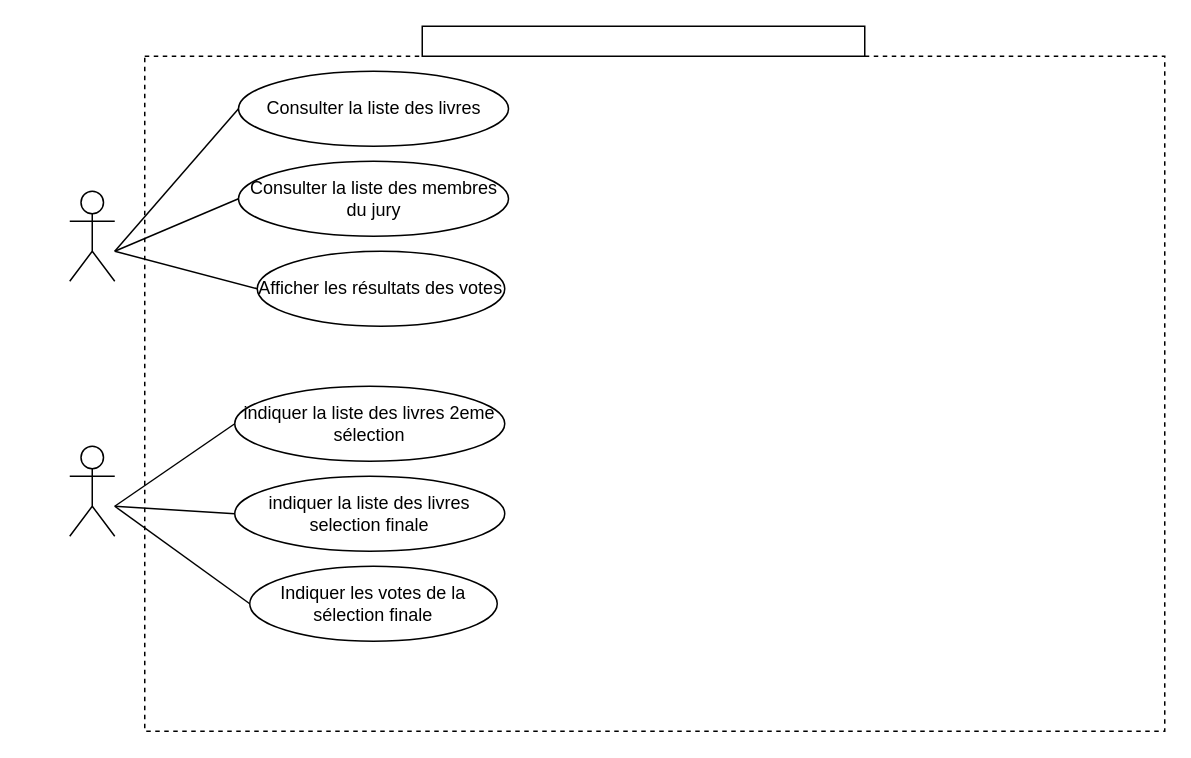
This 1191x758 diagram has some shape labels left out. The box of each missing label's shape, as (x1, y1, x2, y2) in pixels:
Application Goncourt 2026: (421, 25, 865, 56)
president du jury: (68, 445, 115, 536)
User: (68, 190, 115, 281)
